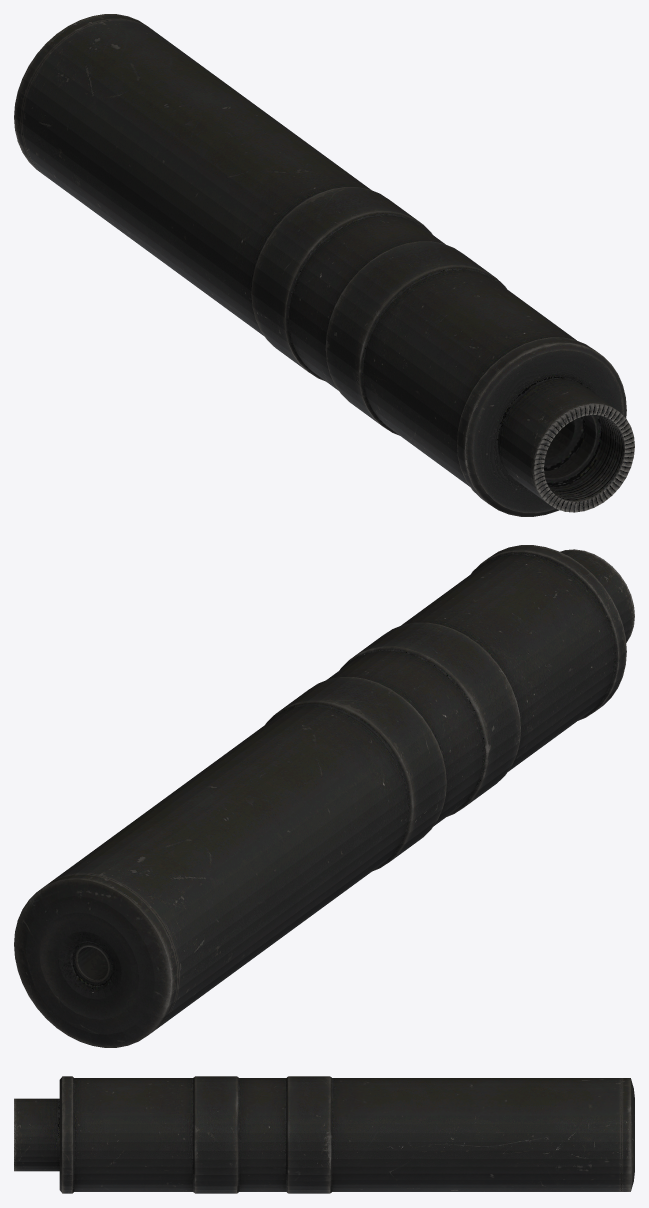
The picture shows the model from 3 angles, top to bottom: view 1: azimuth 30°, elevation 25°; view 2: azimuth 150°, elevation 25°; view 3: azimuth 270°, elevation 25°; orthographic projection. The views are drawn at different scales.
Visible parts, largest first — view 1: TW_66993733f74fef4dfd0b04ff_PZ_Import; view 2: TW_66993733f74fef4dfd0b04ff_PZ_Import; view 3: TW_66993733f74fef4dfd0b04ff_PZ_Import.
Boxes of the visible parts, box(x1,y1,x2,y2) form: TW_66993733f74fef4dfd0b04ff_PZ_Import: box(14, 14, 634, 516); TW_66993733f74fef4dfd0b04ff_PZ_Import: box(14, 545, 634, 1047); TW_66993733f74fef4dfd0b04ff_PZ_Import: box(14, 1076, 634, 1193).
Bounding box in the file's own units: 0.0309 × 0.1637 × 0.0309.
Materials: 1 (1 with a texture image).
